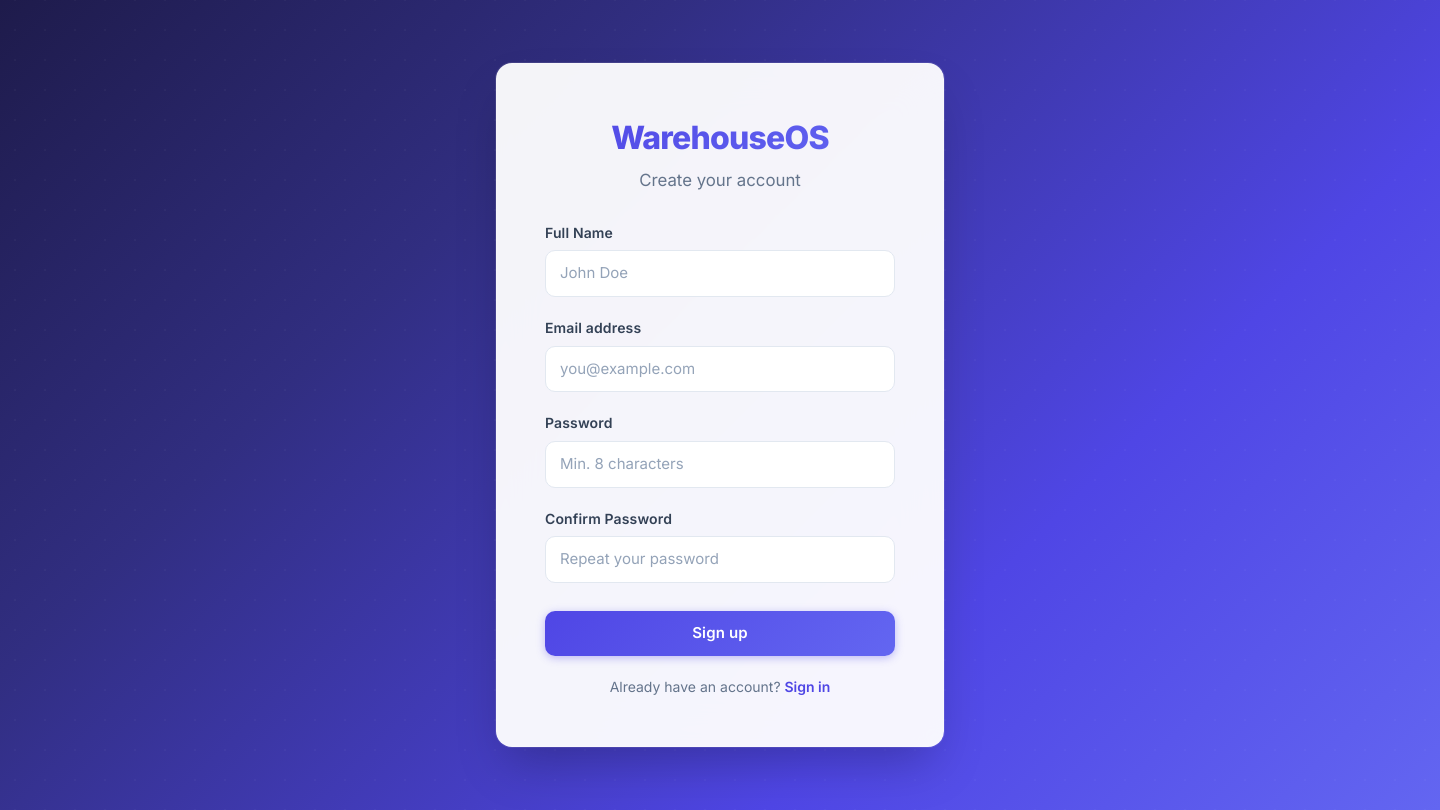
it: RegisterForm › shows validation errors for empty fields
The width and height of the screenshot is (1440, 810).
Click the button "Sign up". click: (720,633)
box: [545, 611, 895, 656]
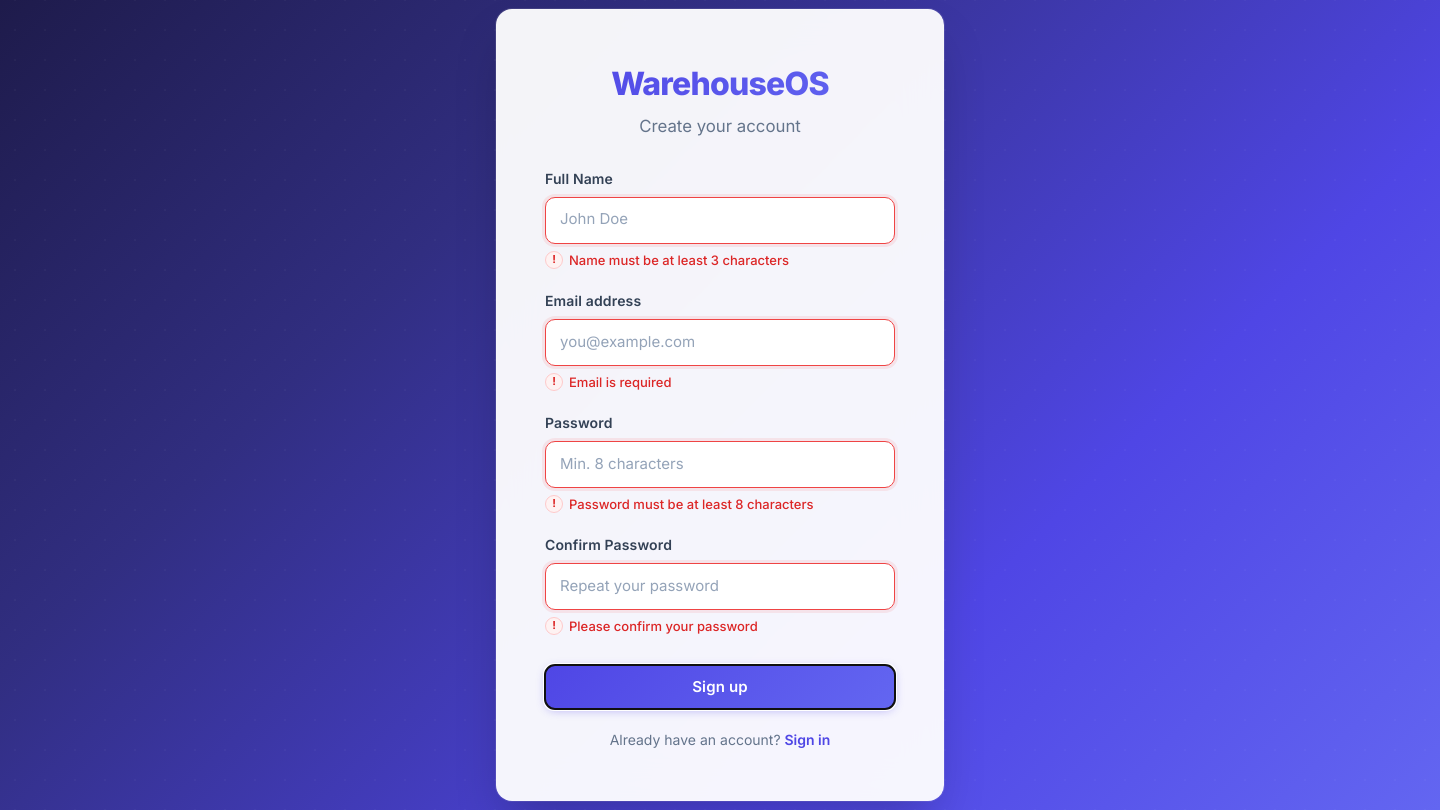
Expected: the text "Name must be at least 3 characters" is shown, [569, 252, 789, 268]
Expected: the text "Email is required" is shown, [569, 374, 672, 390]
